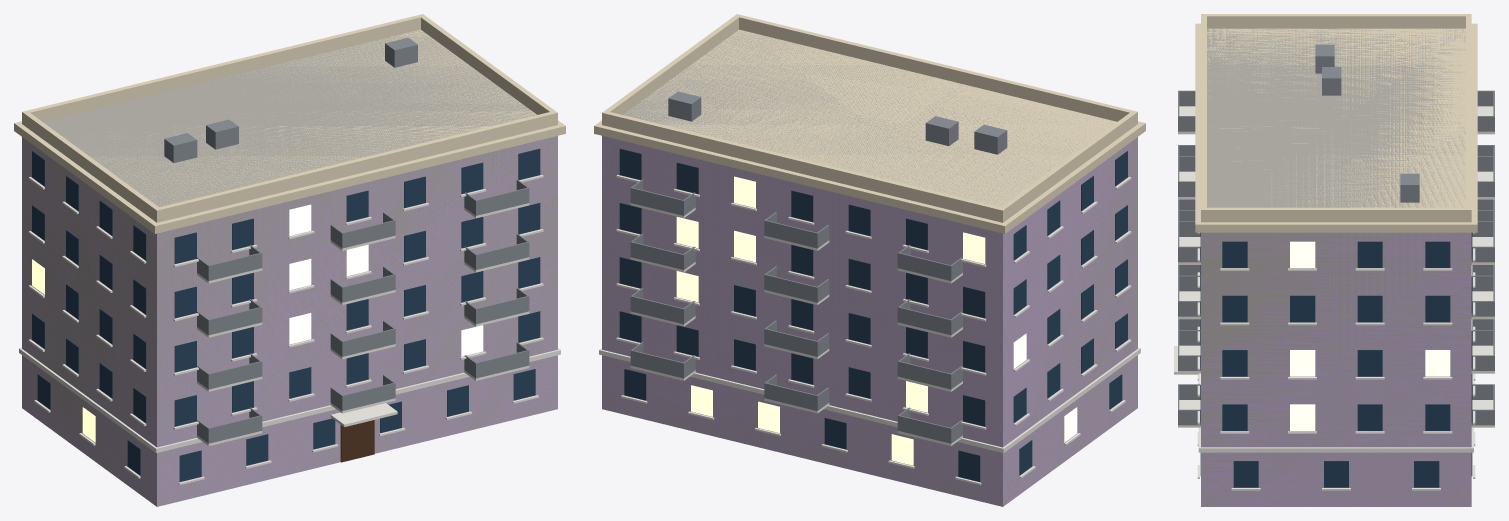
The model's file is BLD_Apartment_A.fbx.
3 views of the same model, side by side, from view 1: azimuth 30°, elevation 25°; view 2: azimuth 150°, elevation 25°; view 3: azimuth 270°, elevation 25° (orthographic).
Visible parts, largest first — view 1: BLD_Apartment_A__BODY, BLD_Apartment_A__COL_Main; view 2: BLD_Apartment_A__BODY, BLD_Apartment_A__COL_Main; view 3: BLD_Apartment_A__BODY, BLD_Apartment_A__COL_Main.
Boxes of the visible parts, x1,y1,x2,y2 form: BLD_Apartment_A__BODY: [14, 14, 565, 506]; BLD_Apartment_A__COL_Main: [22, 29, 557, 506]; BLD_Apartment_A__BODY: [594, 14, 1145, 506]; BLD_Apartment_A__COL_Main: [602, 29, 1137, 506]; BLD_Apartment_A__BODY: [1174, 14, 1494, 506]; BLD_Apartment_A__COL_Main: [1201, 28, 1471, 506].
Size of the model in its own units: 24.6 by 17.25 by 16.6.
